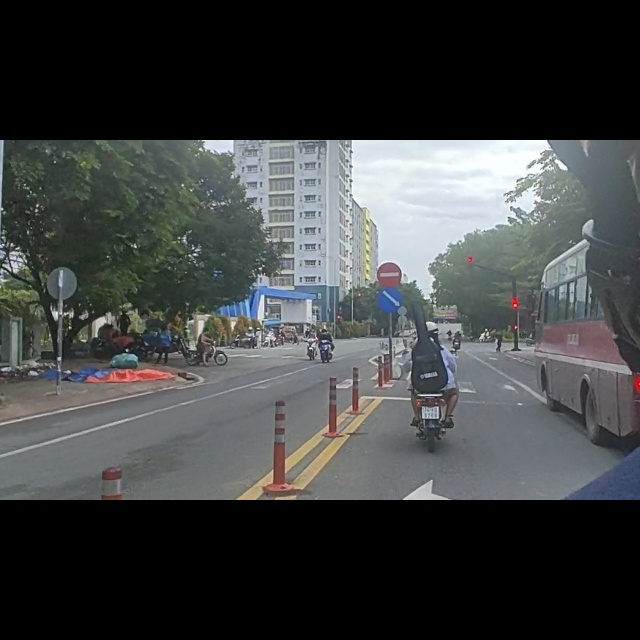bien_cam: (377, 262, 407, 311), (377, 218, 405, 264)
